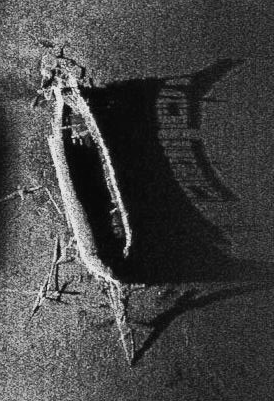ship: (47, 72, 135, 285)
